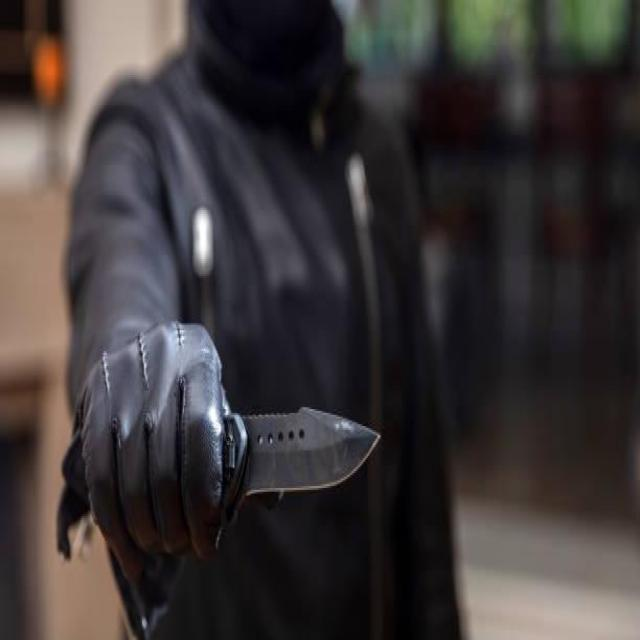faca: (61, 313, 386, 552)
